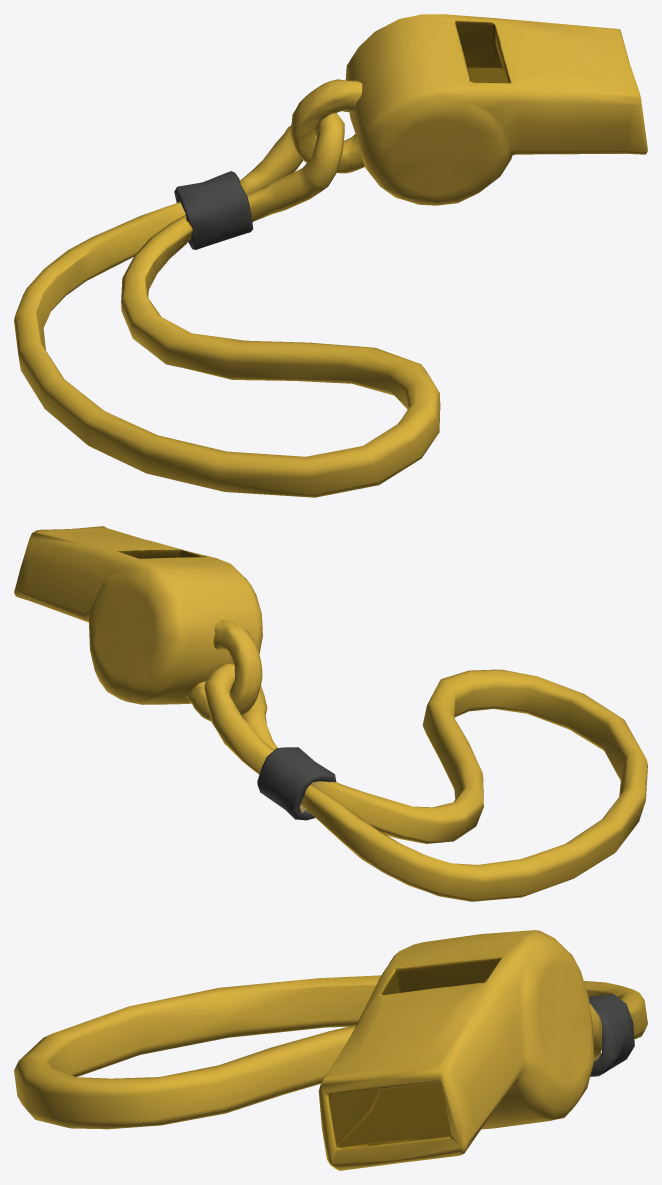
File: whistle.glb
3 renders of one model, top to bottom at view 1: azimuth 30°, elevation 25°; view 2: azimuth 150°, elevation 25°; view 3: azimuth 270°, elevation 25°, orthographic. The views are drawn at different scales.
Visible parts, largest first — view 1: tripo_node_66fc4f76-b999-4a34-85aa-5f79273e4028; view 2: tripo_node_66fc4f76-b999-4a34-85aa-5f79273e4028; view 3: tripo_node_66fc4f76-b999-4a34-85aa-5f79273e4028.
Part boxes in pixels (x1,y1,x2,y2): tripo_node_66fc4f76-b999-4a34-85aa-5f79273e4028: (14, 14, 647, 497); tripo_node_66fc4f76-b999-4a34-85aa-5f79273e4028: (14, 526, 647, 901); tripo_node_66fc4f76-b999-4a34-85aa-5f79273e4028: (14, 930, 647, 1170).
Bounding box in the file's own units: 0.998 × 0.4395 × 0.7559.
1 material, 1 textured.
